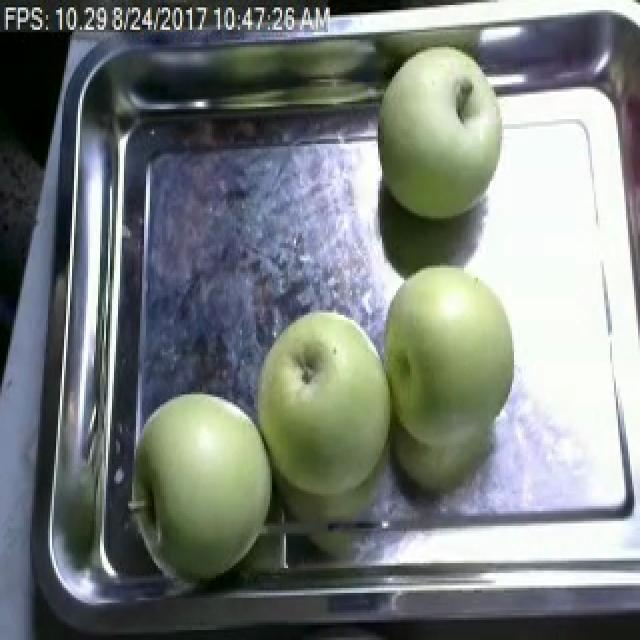50-_ripeness: (111, 382, 287, 599), (368, 264, 542, 454), (256, 308, 406, 490), (369, 37, 506, 231)
